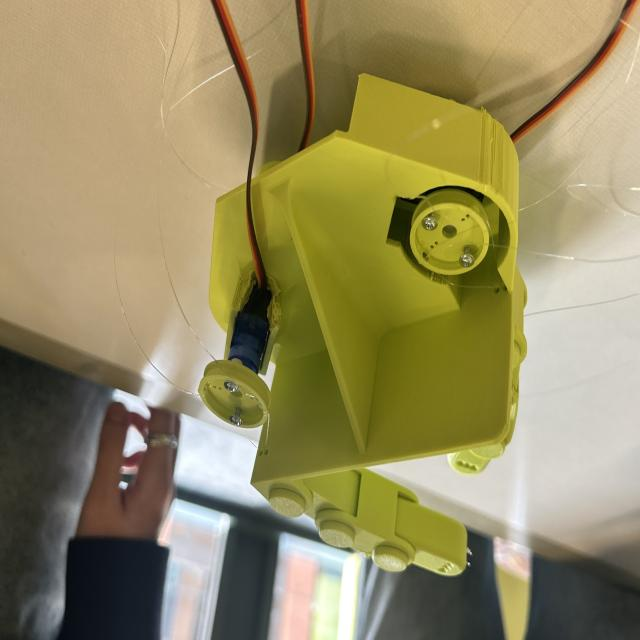prosthetic: (185, 73, 532, 576)
